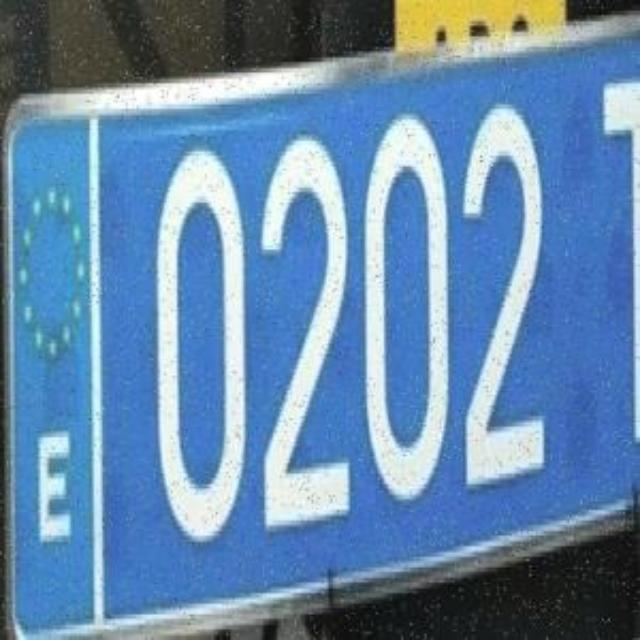License Plate: (2, 15, 640, 640)
